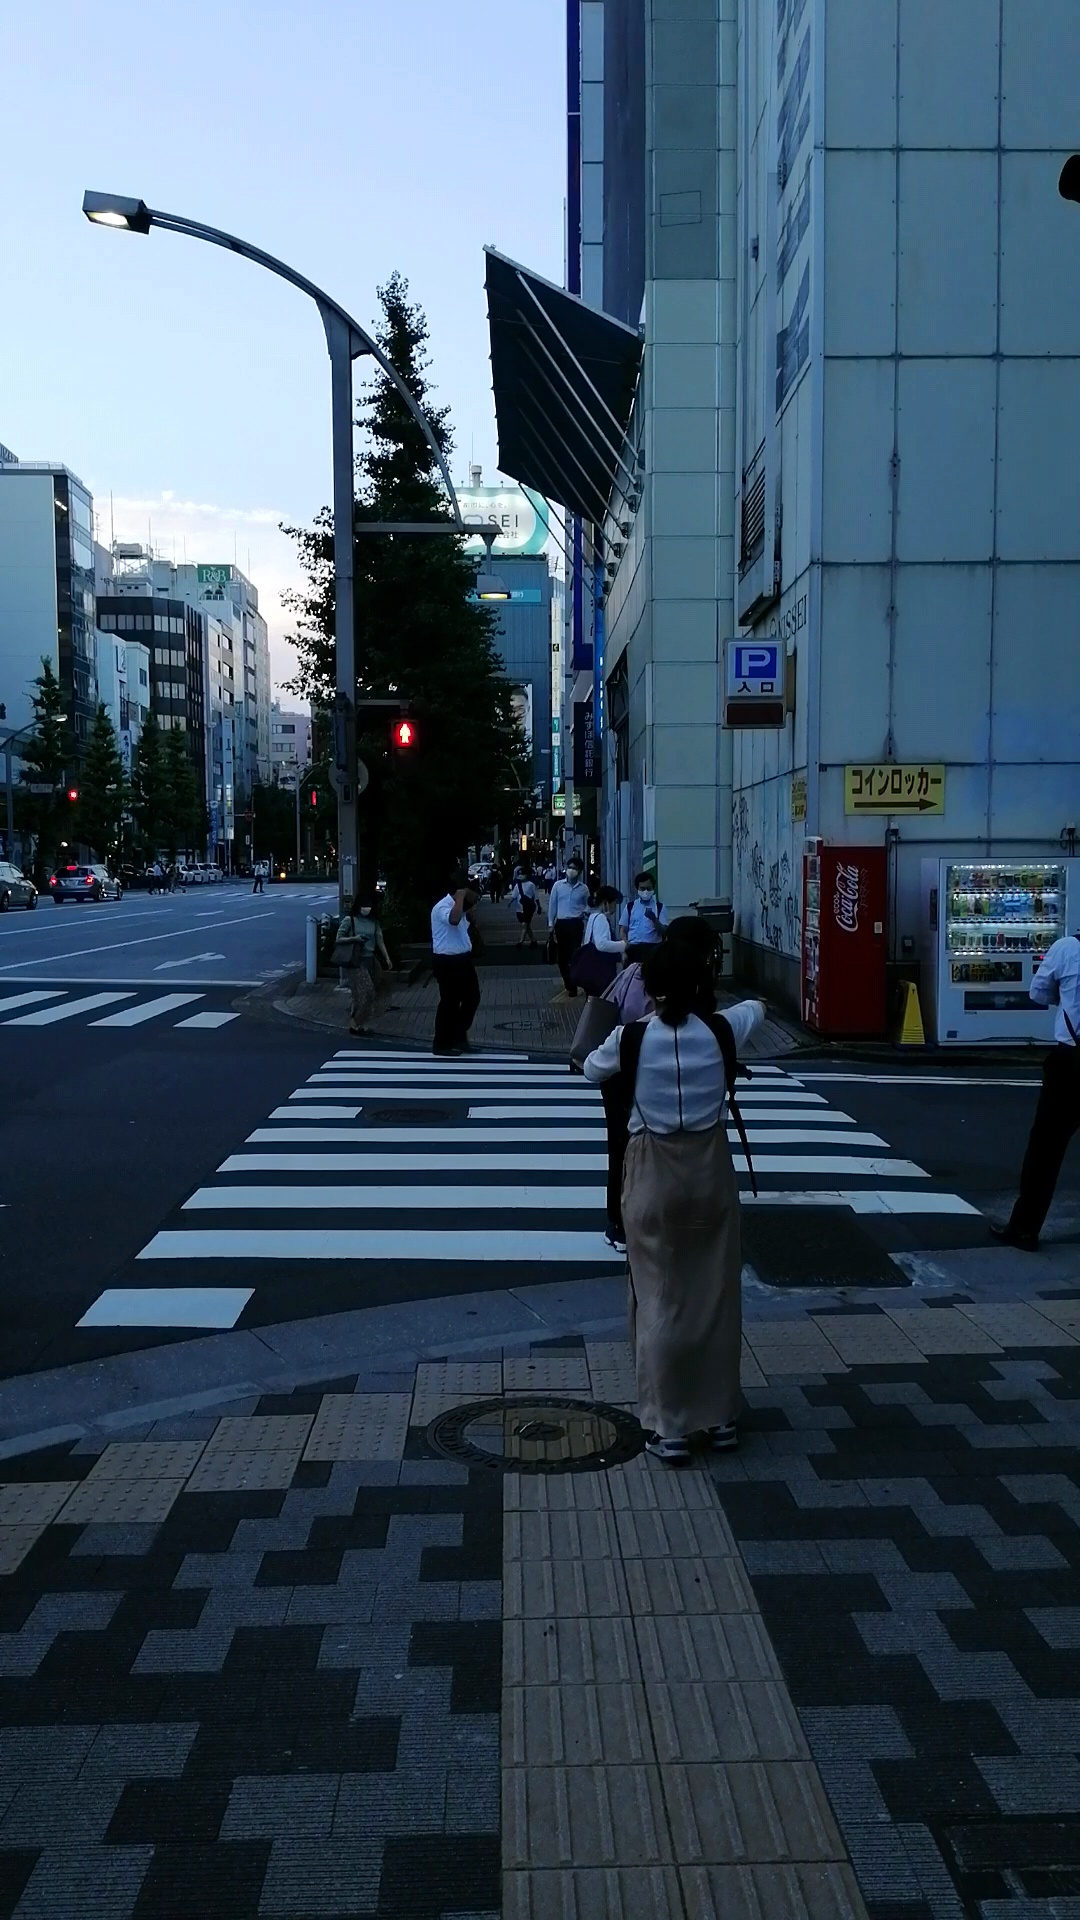red: (386, 716, 422, 775)
